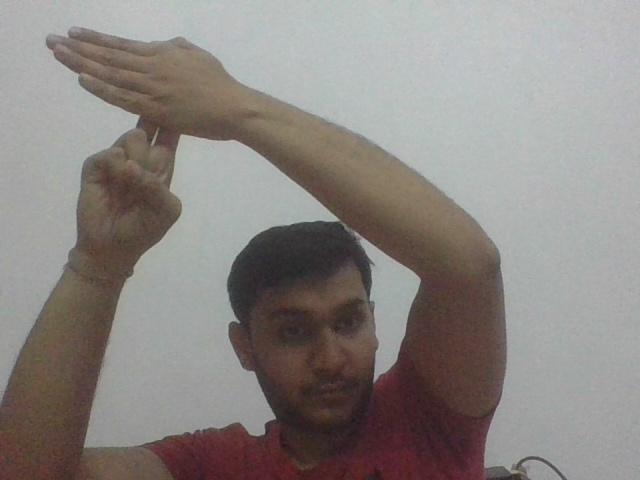N: (40, 25, 231, 154)
